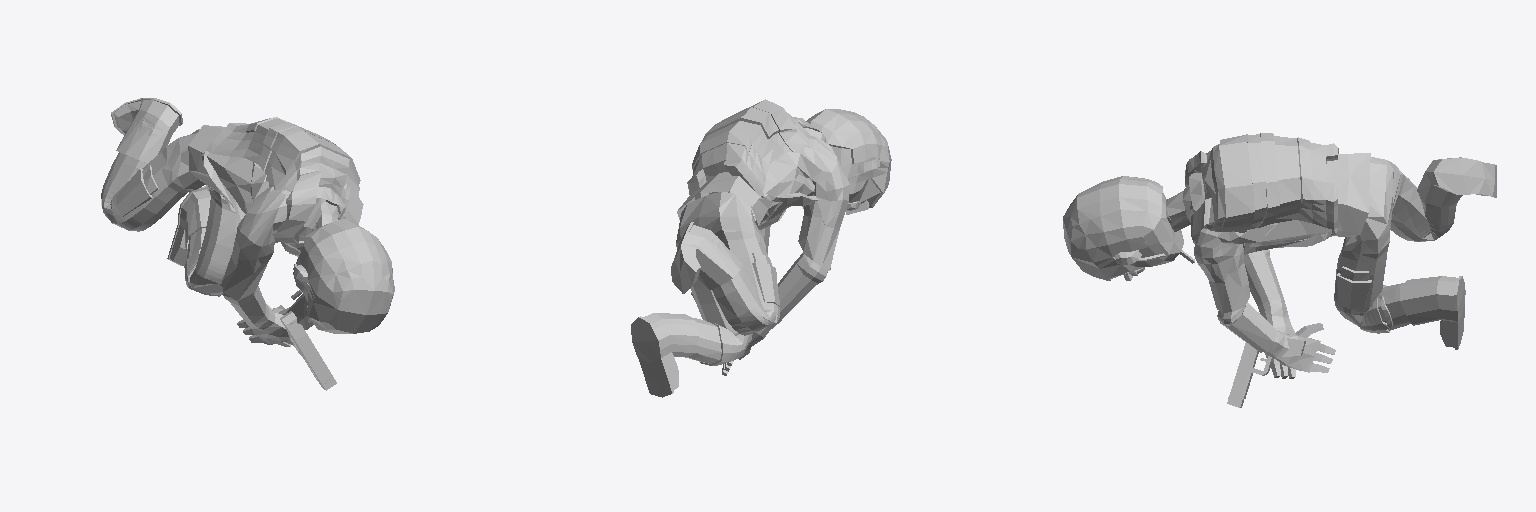
Rendered from frame_0026.obj.
3 views of the same model, side by side, from view 1: azimuth 30°, elevation 25°; view 2: azimuth 150°, elevation 25°; view 3: azimuth 270°, elevation 25° (orthographic).
Parts seen in each view (by area): view 1: Body, Gun; view 2: Body; view 3: Body, Gun.
Part boxes in pixels (left/top/right/bottom): Body: left=101, top=98, right=394, bottom=346; Gun: left=277, top=305, right=336, bottom=390; Body: left=631, top=99, right=891, bottom=397; Body: left=1063, top=133, right=1496, bottom=378; Gun: left=1227, top=338, right=1305, bottom=407.
Size of the model in its own units: 1.4 by 2.23 by 3.4.